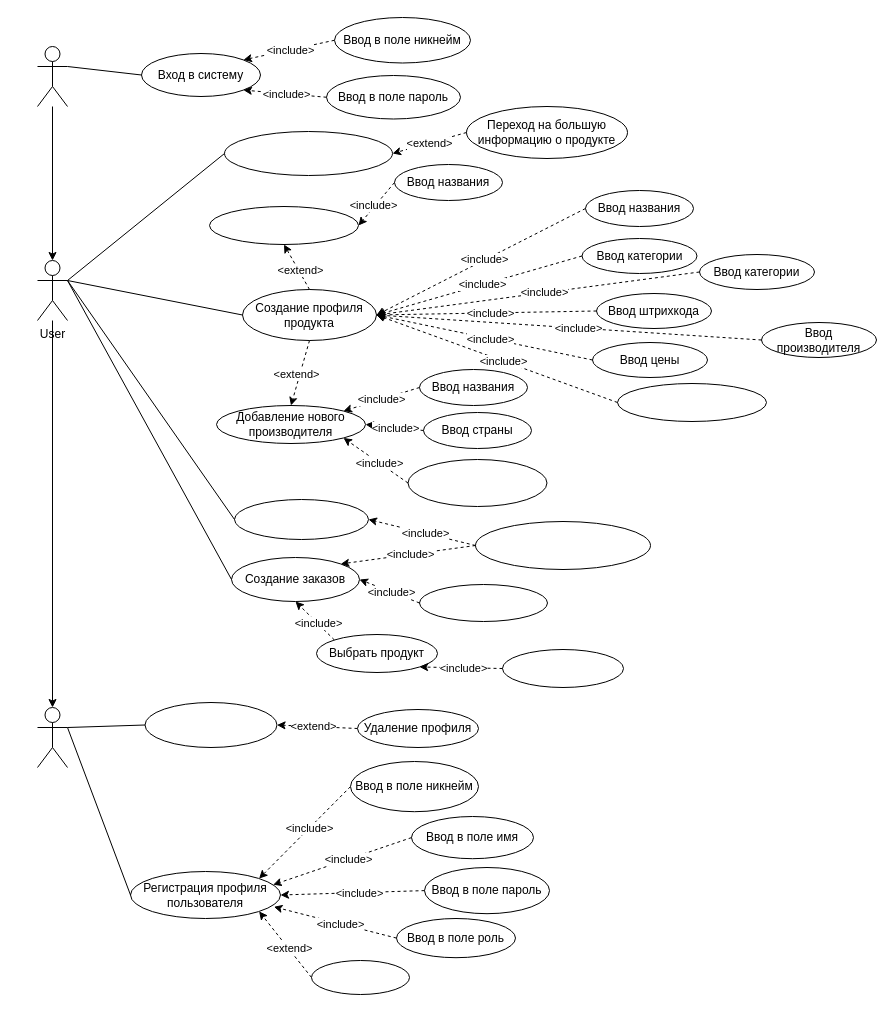
Image size: 894x1012. Some labels were removed from this diagram. The shapes that lost their labels are listed below. From the top down, each one's centre as x and y in pixels, then its label:
point (52, 76): Guest
point (308, 153): Просмотр информации о продуктах
point (283, 225): Добавление новой категории
point (691, 402): Ввод минимального количества
point (477, 482): Ввод дополнительной информации
point (301, 519): Создание закупок
point (562, 545): Ввод информации в поле о продуктах
point (483, 603): Ввод поставщика
point (563, 668): Выбрать количество
point (52, 737): Administrator
point (210, 725): Просмотр профилей
point (360, 977): Ввод почты
